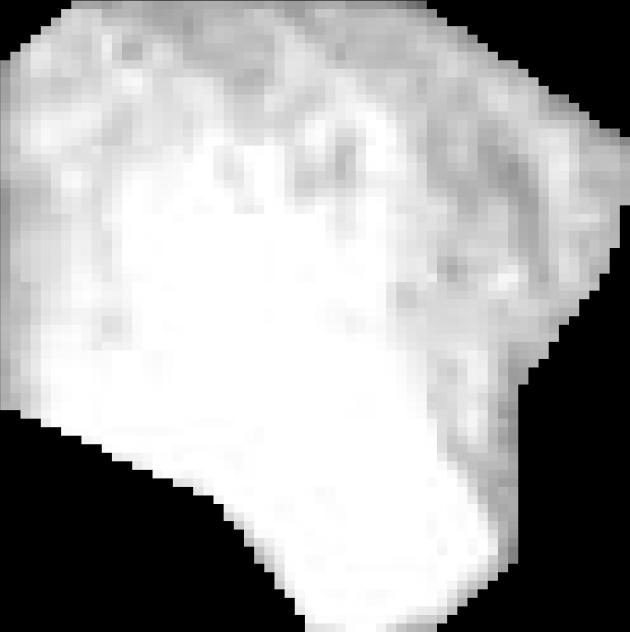tumor_moderate_chance: (0, 1, 630, 632)
